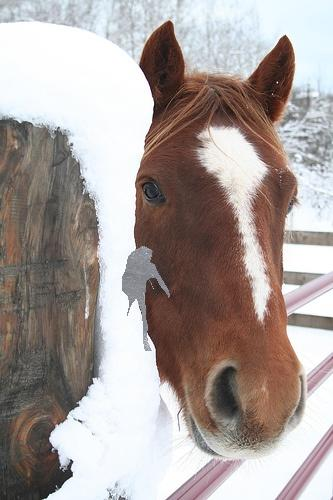tampered: (123, 247, 170, 351)
